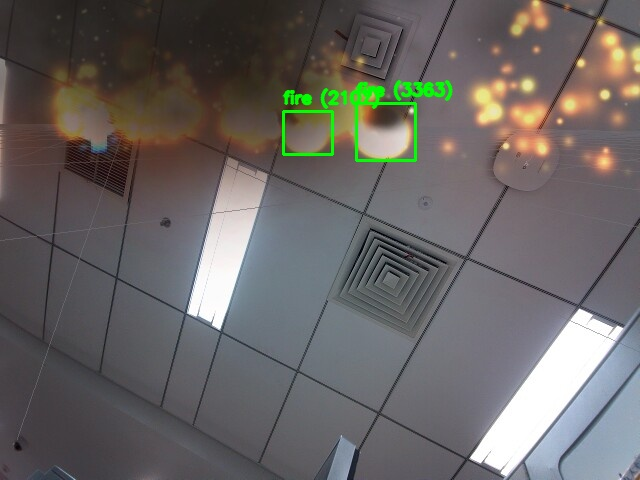fire: (356, 103, 415, 160), (283, 111, 332, 154)
